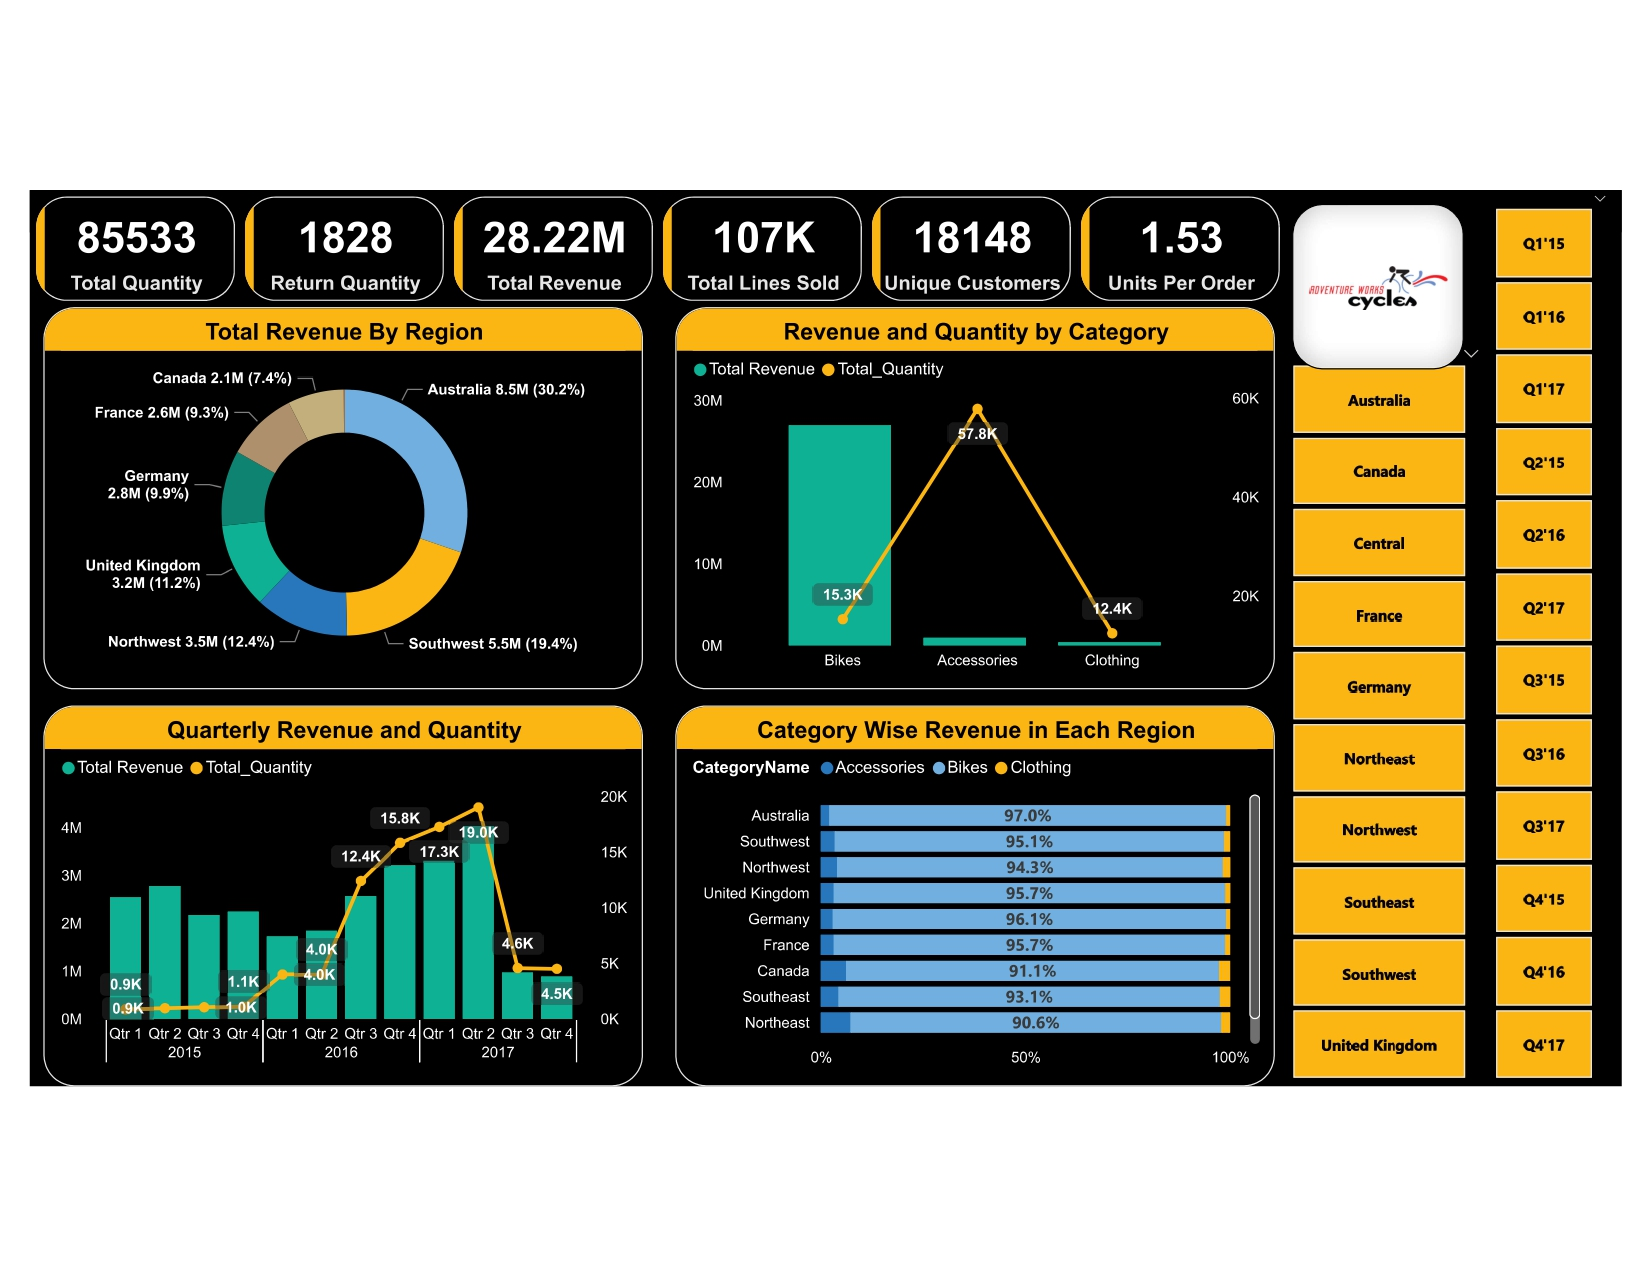

Layout of this report page (visuals, bound fields, positions):
{"tool":"powerbi","page":{"name":"Summary","canvas":[1280,720],"ordinal":0},"visuals":[{"type":"cardVisual","fields":{"Data":["AW_Sales.Total_Quantity","Sum(AW_Returns.ReturnQuantity)","Sum(AW_Sales.TotalRevenue)","AW_Sales.Total Lines Sold","AW_Customers.Unique_Customers","AW_Sales.Units Per Order"]},"box":[0,0,1014.6,94],"z":0},{"type":"slicer","fields":{"Values":["AW_Calender.YearQtr"]},"box":[1152.6,0,127.4,720.4],"z":1000},{"type":"slicer","fields":{"Values":["AW_Territories.Region"]},"box":[990.3,124.4,188.1,596],"z":2000},{"type":"donutChart","title":"Total Revenue By Region","fields":{"Category":["AW_Territories.Region"],"Y":["Sum(AW_Sales.TotalRevenue)"]},"box":[10.6,94,482.3,307],"z":3000},{"type":"lineClusteredColumnComboChart","title":"Revenue and Quantity by Category ","fields":{"Category":["AW_Product_Categories.CategoryName"],"Y":["Sum(AW_Sales.TotalRevenue)"],"Y2":["AW_Sales.Total_Quantity"]},"box":[518.7,94,482.3,307],"z":4000},{"type":"lineClusteredColumnComboChart","title":"Quarterly Revenue and Quantity ","fields":{"Y":["Sum(AW_Sales.TotalRevenue)"],"Y2":["AW_Sales.Total_Quantity"],"Category":["AW_Calender.OrderDate.Variation.Date Hierarchy.Year","AW_Calender.OrderDate.Variation.Date Hierarchy.Quarter"]},"box":[10.6,414,482.3,306.4],"z":5000},{"type":"hundredPercentStackedBarChart","title":"Category Wise Revenue in Each Region","fields":{"Category":["AW_Territories.Region"],"Y":["Sum(AW_Sales.TotalRevenue)"],"Series":["AW_Product_Categories.CategoryName"]},"box":[518.7,414,482.3,306.4],"z":6000},{"type":"image","box":[1014.6,10.6,138,133.5],"z":7000}]}

Visuals, with their boxes on the page's 1280x720 design canvas (x1, y1, x2, y2). These are canvas units, not pixel positions in the 1650x1275 screenshot, which may show the page scaled, cropped or inside an application window:
cardVisual - AW_Sales.Total_Quantity x Sum(AW_Returns.ReturnQuantity): [0,0,1015,94]
slicer - AW_Calender.YearQtr: [1153,0,1280,720]
slicer - AW_Territories.Region: [990,124,1178,720]
"Total Revenue By Region" donutChart: [11,94,493,401]
"Revenue and Quantity by Category " lineClusteredColumnComboChart: [519,94,1001,401]
"Quarterly Revenue and Quantity " lineClusteredColumnComboChart: [11,414,493,720]
"Category Wise Revenue in Each Region" hundredPercentStackedBarChart: [519,414,1001,720]
image: [1015,11,1153,144]
